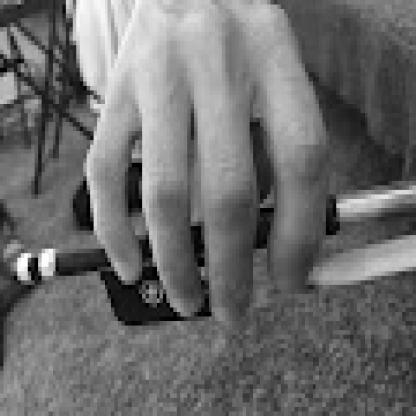good: (64, 0, 348, 334)
